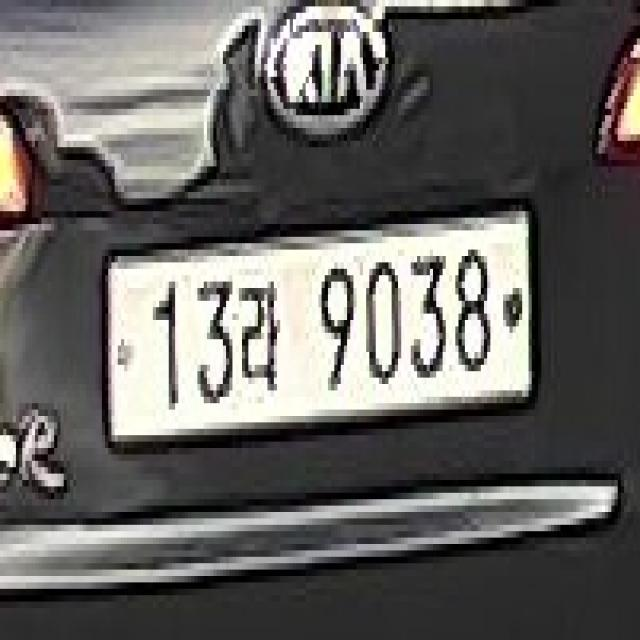0: (366, 249, 404, 396)
1: (150, 269, 188, 422)
3: (401, 244, 449, 390), (191, 269, 236, 422)
8: (452, 237, 494, 384)
9: (318, 256, 360, 410)
la: (236, 262, 293, 410)
license_plate: (98, 185, 544, 492)
